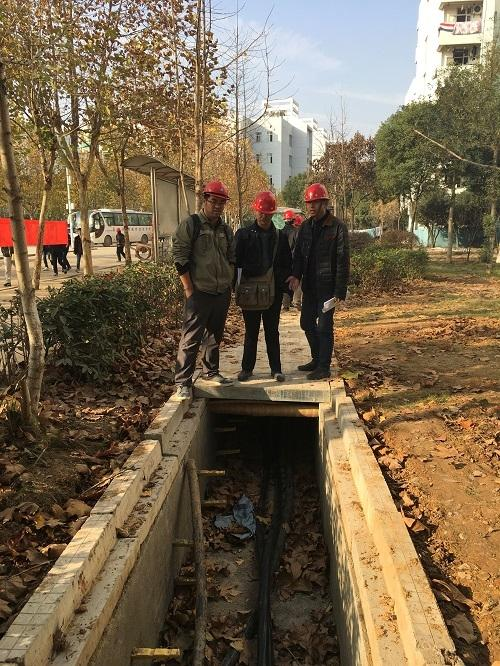helmet: (255, 191, 278, 216), (303, 182, 329, 203), (204, 180, 230, 199), (283, 211, 294, 223)
no_wear: (298, 221, 345, 299)
wear: (186, 218, 234, 293)
